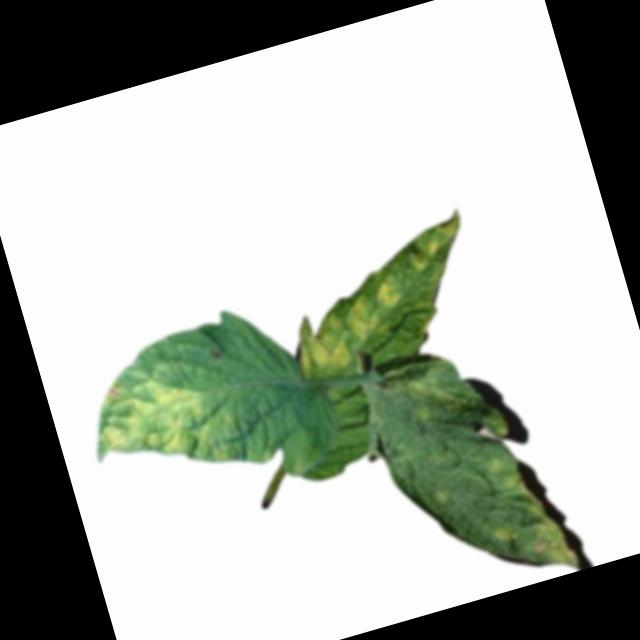Leaf_Mold: (73, 343, 243, 500), (473, 445, 584, 591), (281, 269, 418, 386), (396, 209, 472, 275)
